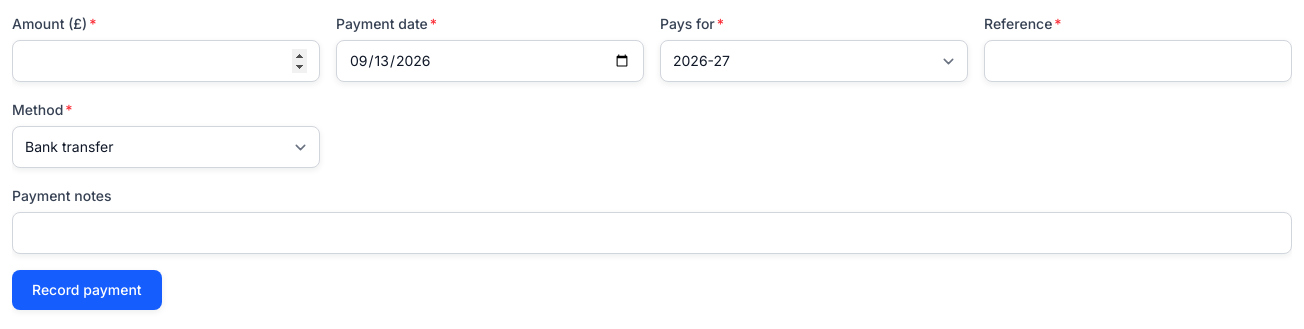
Test case: PaymentForm › keeps the entered values and shows an error on failure
The image size is (1304, 329).
Type "75.25" into the number field labelled "Amount (£)". click: (166, 61)
box: [12,40,320,82]
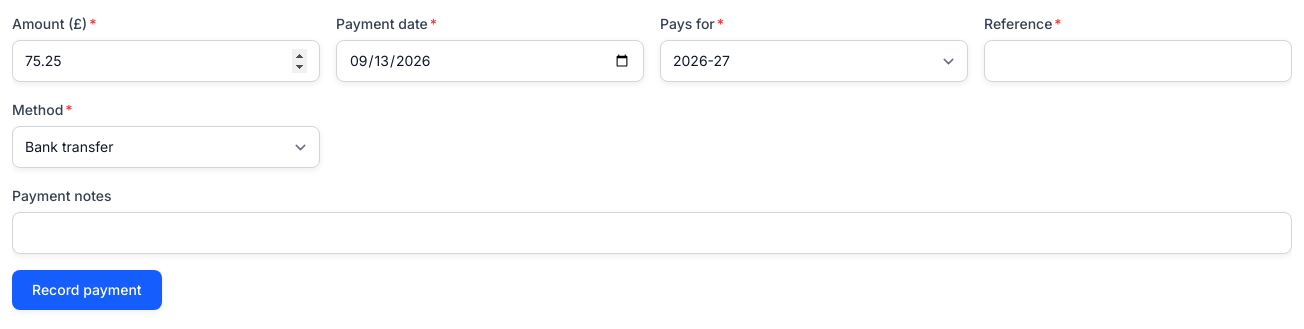
Type "REF-9" into the field labelled "Reference". click: (1138, 61)
box: [984,40,1292,82]
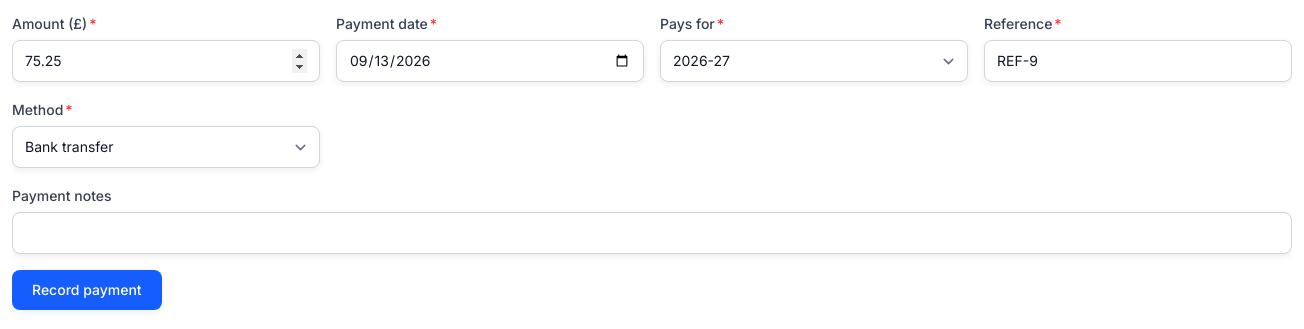
Select "Card" in the dropdown labelled "Method". click: (166, 147)
box: [12,126,320,168]
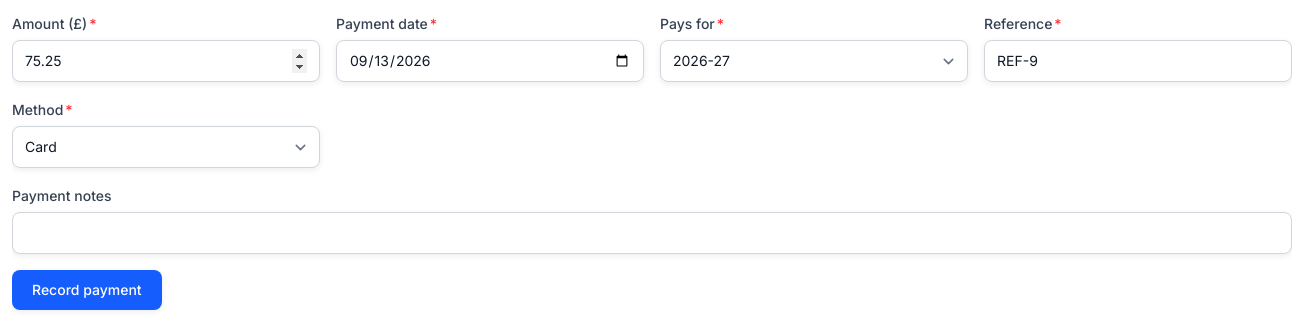
Click the button "Record payment". click: (87, 290)
box: [12,270,162,310]
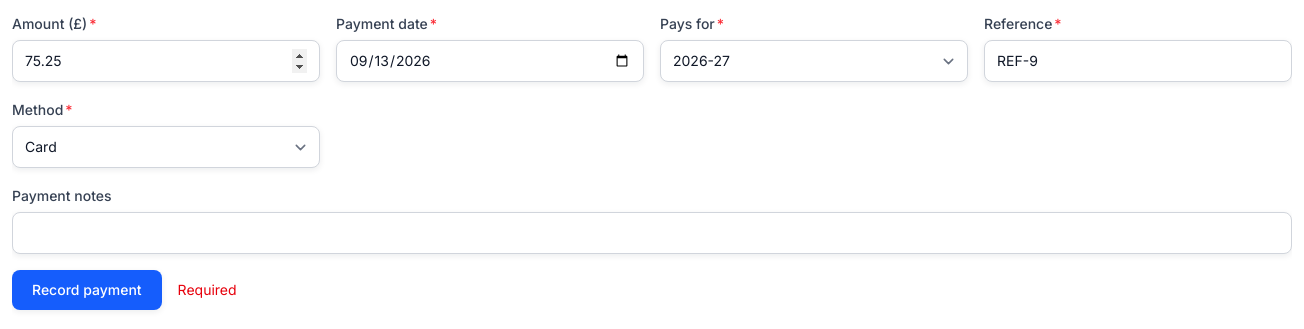
Result: the message reads "Required" at [178,281,237,298]
